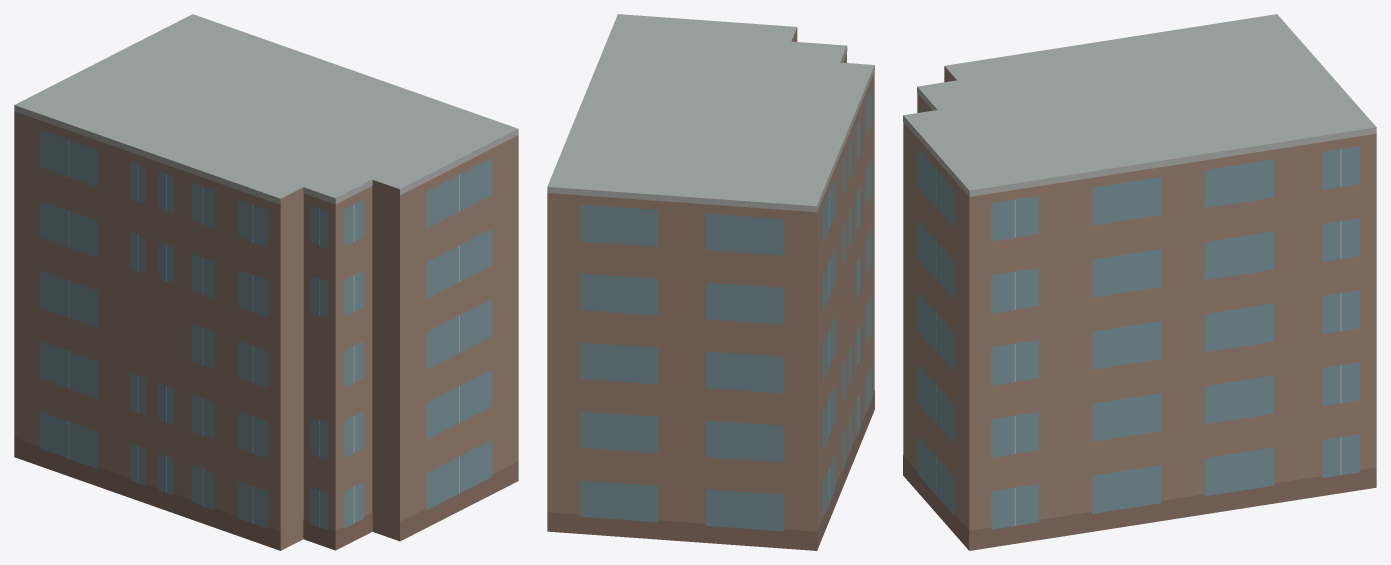
File: survey-upis-32723475.glb
3 renders of one model, left to right at view 1: azimuth 30°, elevation 25°; view 2: azimuth 150°, elevation 25°; view 3: azimuth 270°, elevation 25°, orthographic. The views are drawn at different scales.
Parts seen in each view (by area): view 1: survey-upis-32723475.tmp; view 2: survey-upis-32723475.tmp; view 3: survey-upis-32723475.tmp.
Part boxes in pixels (x1,y1,x2,y2): survey-upis-32723475.tmp: (14, 14, 518, 550); survey-upis-32723475.tmp: (547, 14, 874, 550); survey-upis-32723475.tmp: (903, 14, 1376, 550).
Size of the model in its own units: 14.68 by 13.95 by 16.63.
